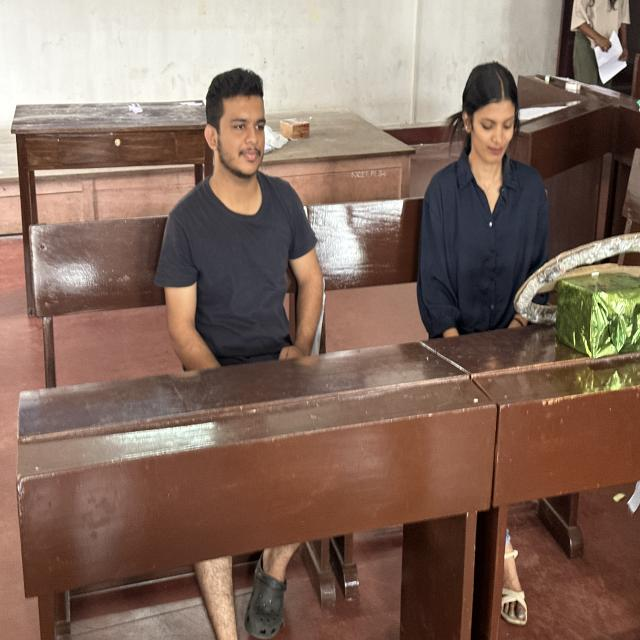no-seatbelt: (167, 183, 326, 385), (402, 156, 563, 339)
